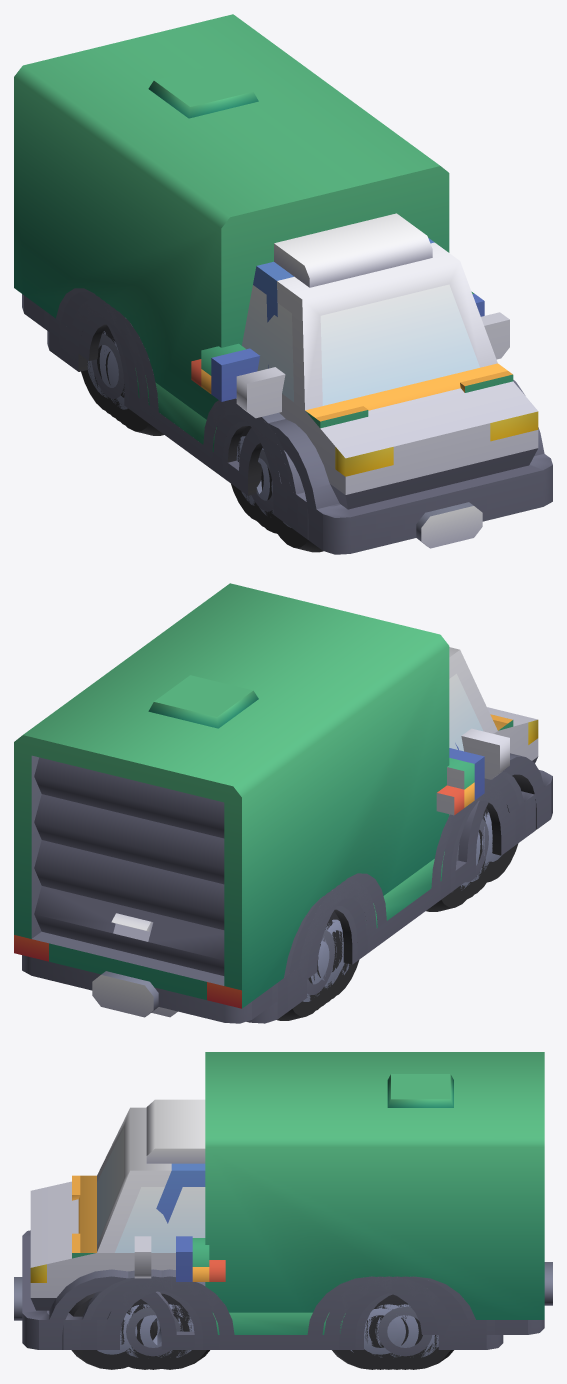
Rendered from cars.glb.
3 renders of one model, top to bottom at view 1: azimuth 30°, elevation 25°; view 2: azimuth 150°, elevation 25°; view 3: azimuth 270°, elevation 25°, orthographic. The views are drawn at different scales.
Visible parts, largest first — view 1: body (×8), wheel-back-right (×3), wheel-front-right; view 2: body (×7), door, wheel-back-right (×3), wheel-front-right (×2); view 3: body (×8), wheel-back-left (×6), wheel-front-left (×5).
Boxes of the visible parts, <box> form: body (×8): <box>14,14,552,554</box>; wheel-back-right (×3): <box>81,326,138,423</box>; wheel-front-right: <box>231,426,272,521</box>; body (×7): <box>14,583,552,1023</box>; door: <box>34,757,224,975</box>; wheel-back-right (×3): <box>277,911,349,1020</box>; wheel-front-right (×2): <box>427,814,518,911</box>; body (×8): <box>14,1052,552,1349</box>; wheel-back-left (×6): <box>332,1294,453,1369</box>; wheel-front-left (×5): <box>69,1293,209,1369</box>.
Bounding box in the file's own units: 1.5 × 1.65 × 3.25.
1 material, 1 textured.
